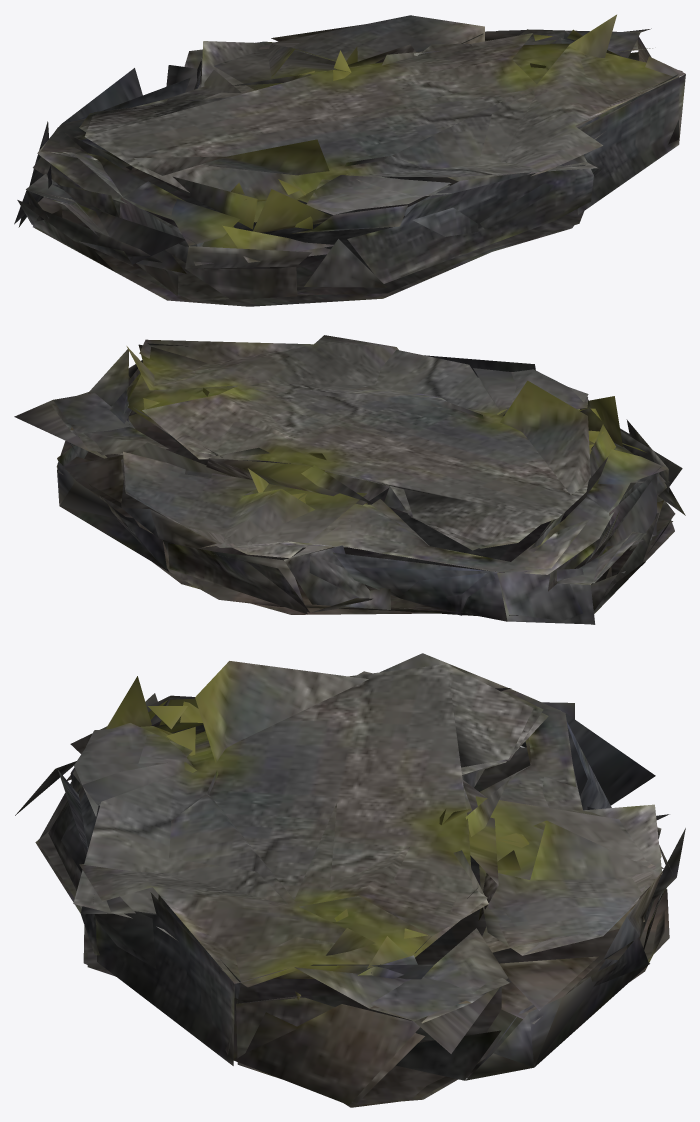
Rendered from rock-2.lod1.glb.
The picture shows the model from 3 angles, top to bottom: view 1: azimuth 30°, elevation 25°; view 2: azimuth 150°, elevation 25°; view 3: azimuth 270°, elevation 25°; orthographic projection. The views are drawn at different scales.
Parts seen in each view (by area): view 1: terrain-rock-2; view 2: terrain-rock-2; view 3: terrain-rock-2.
Part boxes in pixels (x1,y1,x2,y2): terrain-rock-2: (14,14,685,306); terrain-rock-2: (14,335,685,624); terrain-rock-2: (15,653,685,1107).
Bounding box in the file's own units: 0.3113 × 0.0617 × 0.2288.
1 material, 1 textured.
